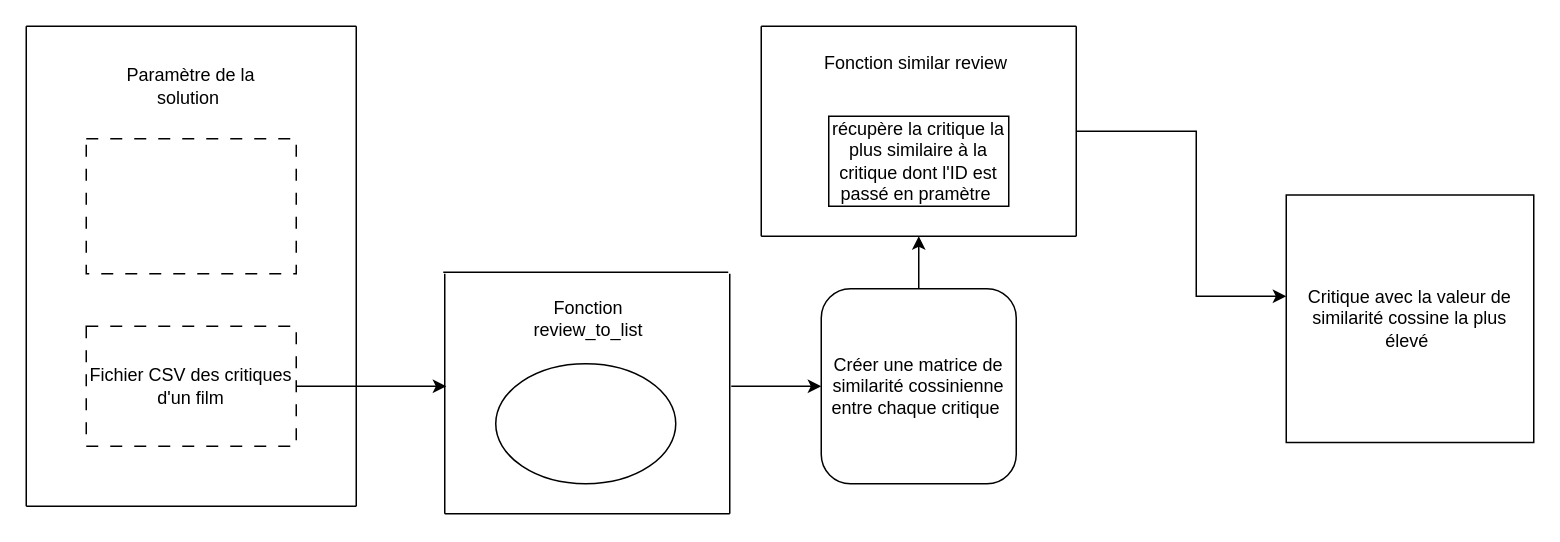
This 1560x542 diagram has some shape labels left out. The box of each missing label's shape, as (x1, y1, x2, y2) in pixels:
crée une liste de la partie "content" des critiques: (494, 362, 676, 484)
ID de la critique dont on veut récupérer la critique la plus similaire: (85, 137, 296, 274)
